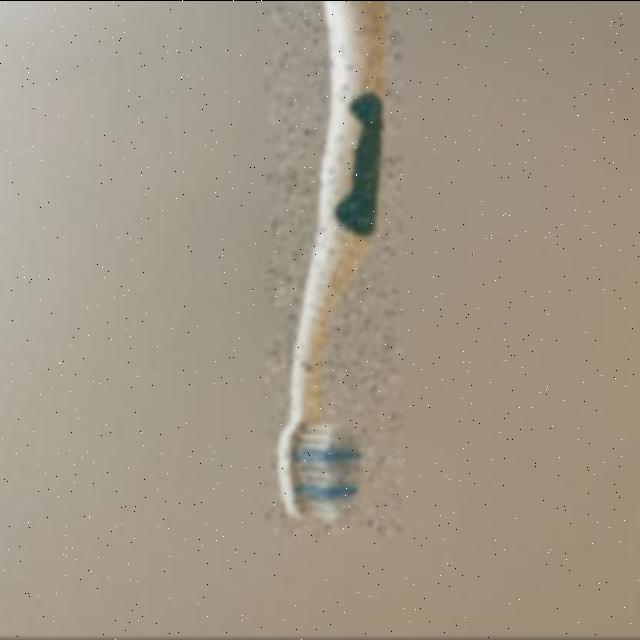toothbrush: (266, 1, 402, 536)
